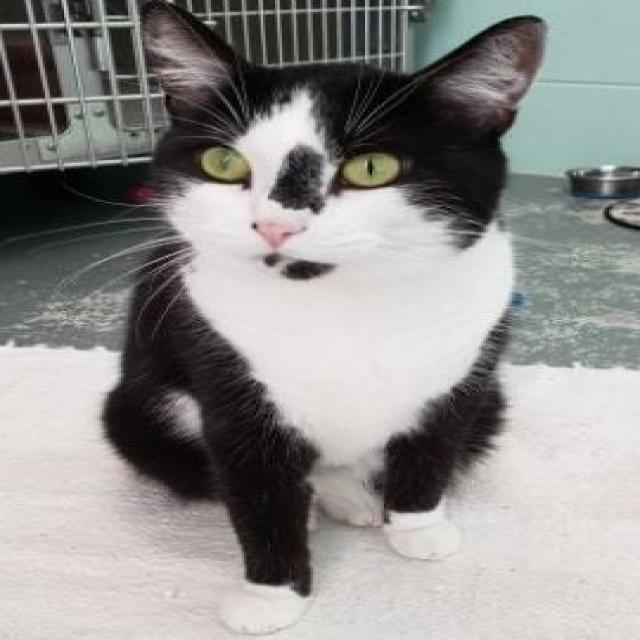Tuxedo: (97, 0, 552, 639)
